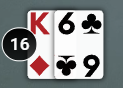6: (54, 10, 80, 36)
k: (28, 10, 52, 36)
